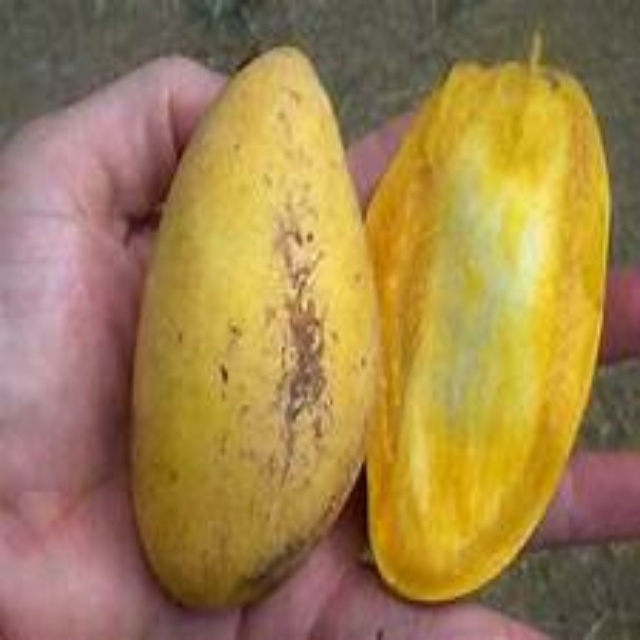mango: (367, 47, 604, 602), (142, 47, 360, 618)
